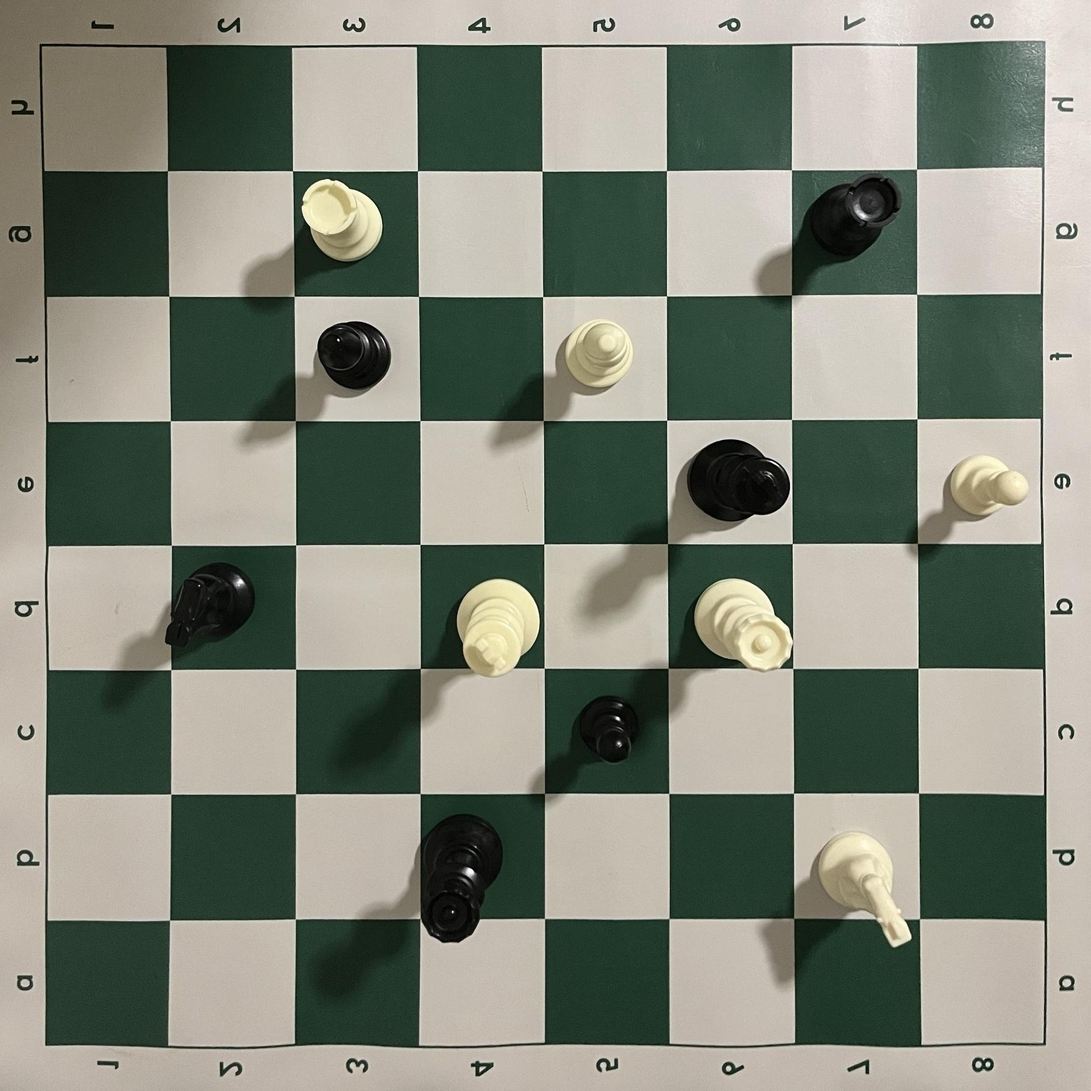black_bishop: (316, 321, 391, 391)
black_king: (686, 438, 792, 522)
black_knight: (164, 561, 258, 649)
black_pawn: (578, 694, 642, 765)
black_queen: (419, 812, 504, 945)
black_rook: (810, 172, 903, 257)
white_bishop: (564, 318, 635, 391)
white_king: (456, 577, 542, 679)
white_knight: (817, 830, 914, 949)
white_pawn: (949, 455, 1029, 518)
white_queen: (692, 577, 795, 673)
white_rook: (301, 178, 383, 263)
